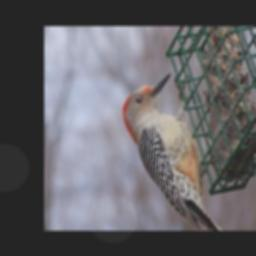Woodpecker: (122, 74, 217, 230)
